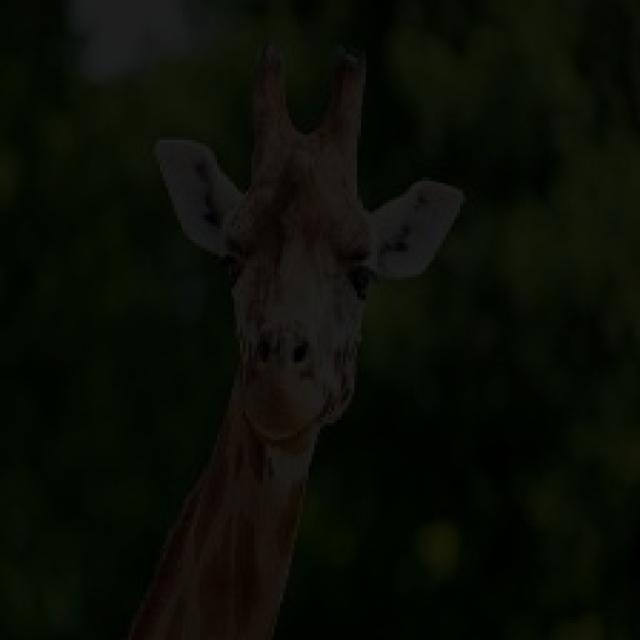animal: (121, 89, 460, 579)
